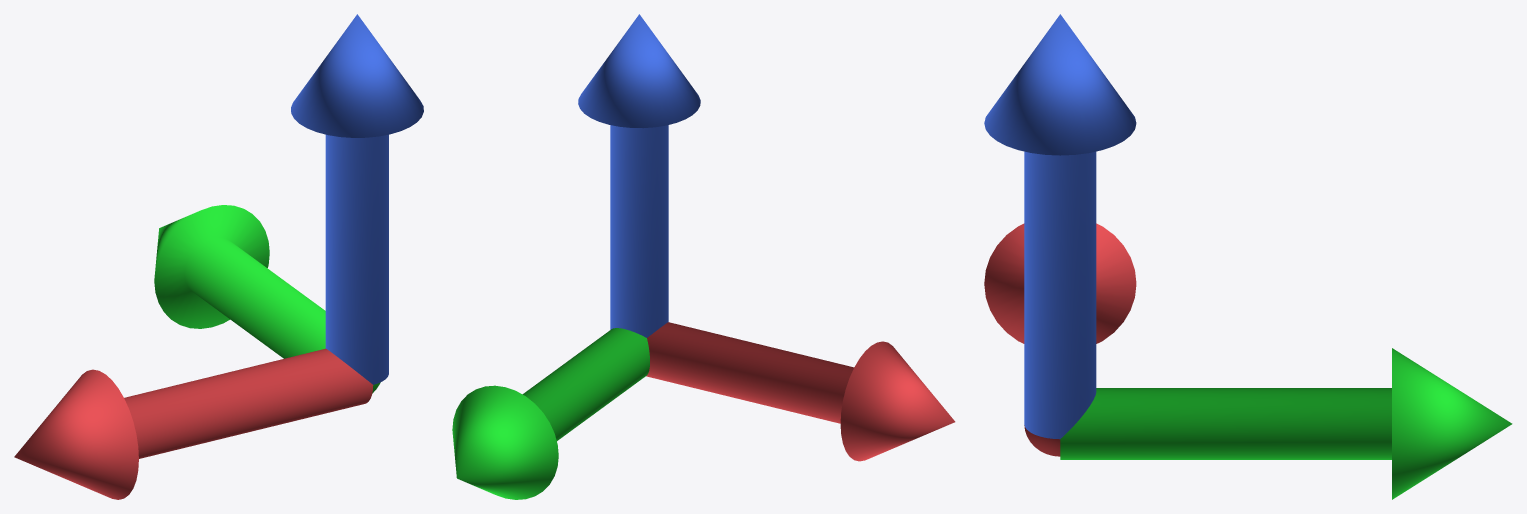
Rendered from VectorStart 1.fbx.
The picture shows the model from 3 angles, left to right: view 1: azimuth 30°, elevation 25°; view 2: azimuth 150°, elevation 25°; view 3: azimuth 270°, elevation 25°; orthographic projection. The views are drawn at different scales.
Parts seen in each view (by area): view 1: Cylinder; view 2: Cylinder; view 3: Cylinder.
Boxes of the visible parts, bbox=[...] form: Cylinder: bbox=[14, 14, 423, 499]; Cylinder: bbox=[452, 14, 955, 499]; Cylinder: bbox=[984, 14, 1512, 499].
Size of the model in its own units: 117 by 117 by 117.
